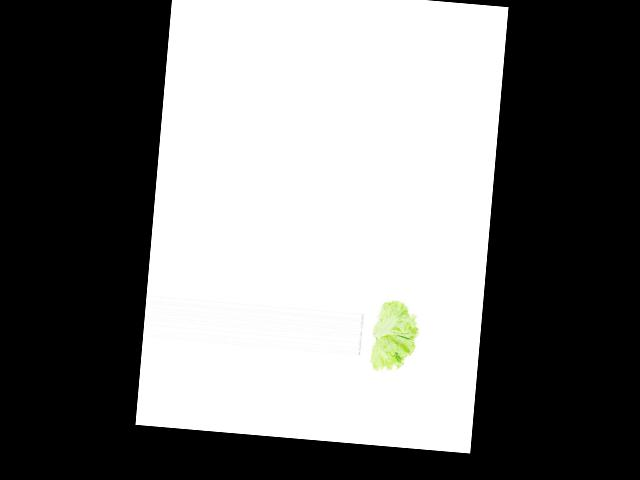lettuce: (360, 296, 422, 374)
